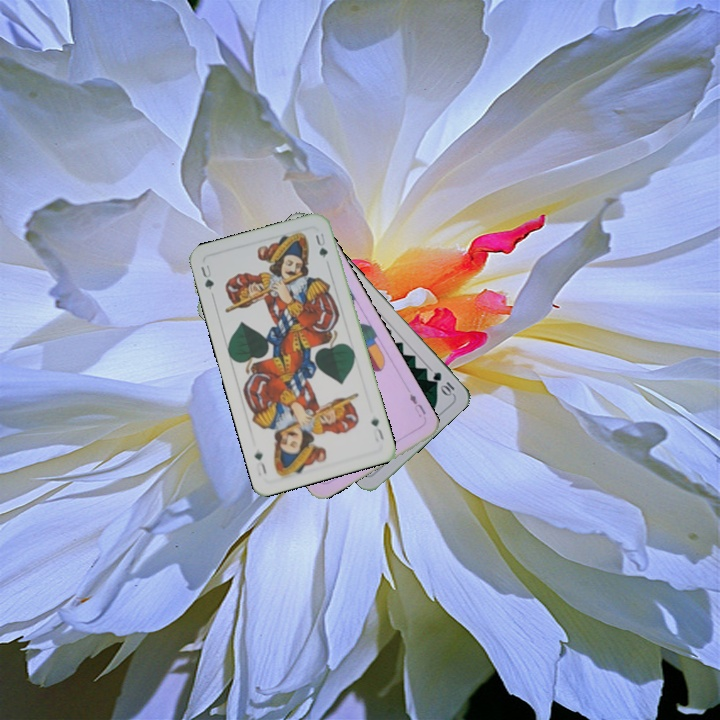EU: (405, 389, 429, 420)
G10: (429, 368, 457, 398)
GU: (197, 261, 217, 292), (367, 414, 386, 442)
